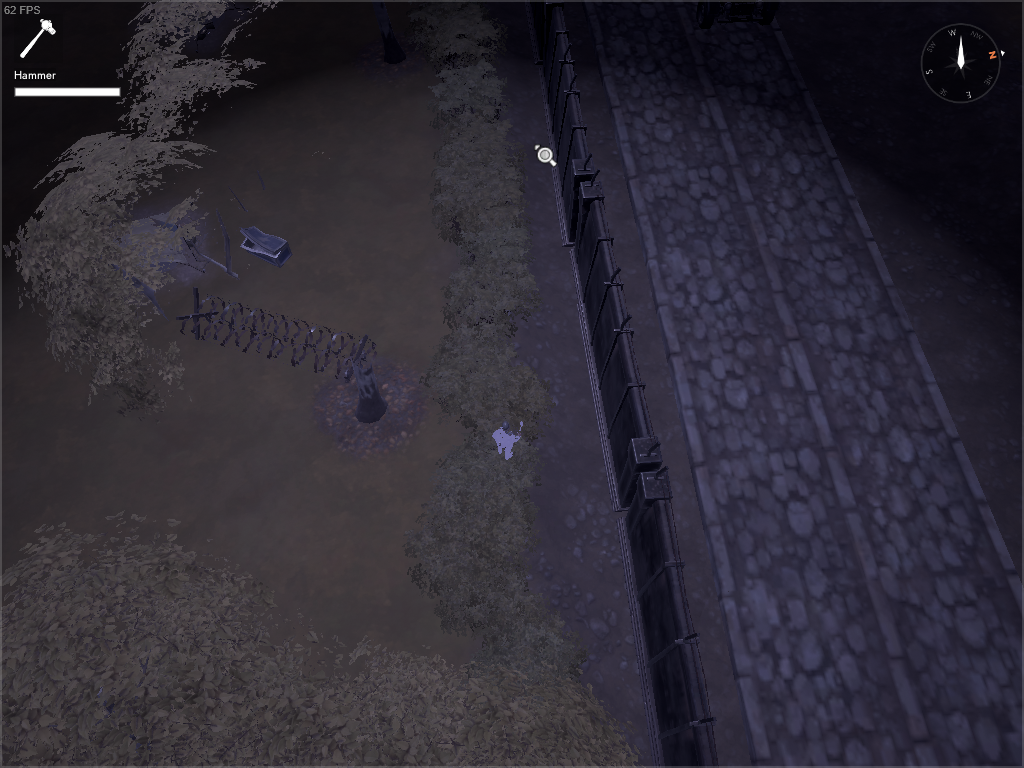fortified_wall: (566, 167, 668, 511), (614, 463, 722, 768), (526, 2, 603, 249)
foxhole: (89, 198, 214, 304)
player: (490, 417, 527, 463)
storage_box: (238, 222, 292, 269)
wire: (173, 285, 381, 387)
